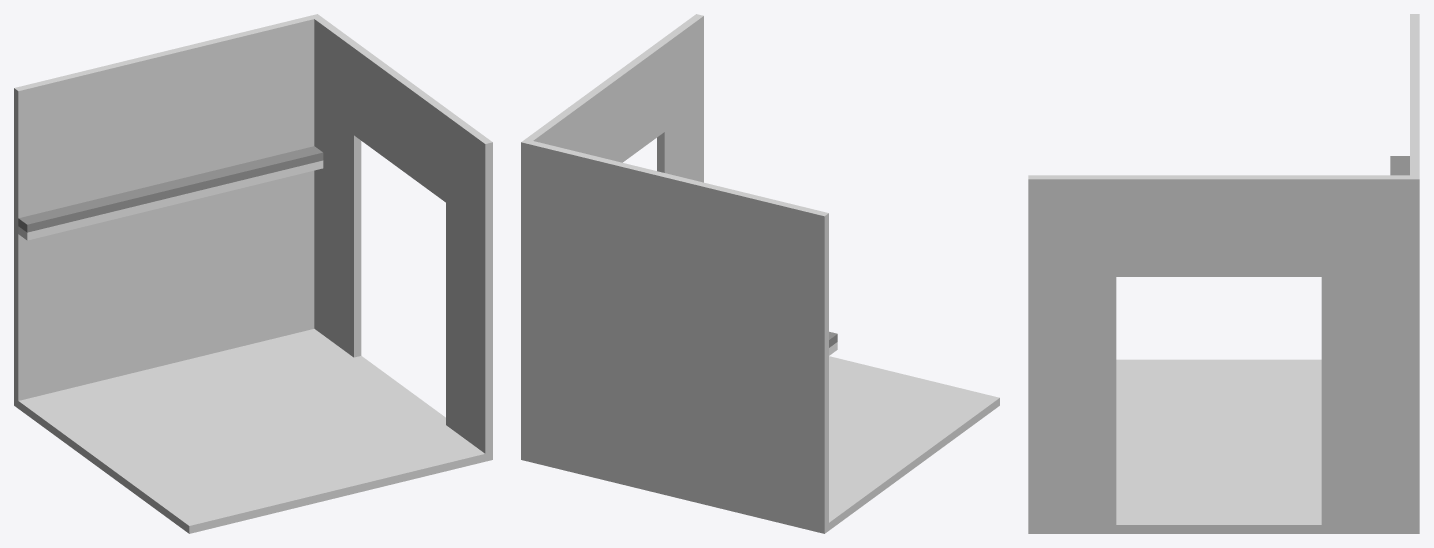
Rendered from Wall_for_door_Ver1.obj.
3 views of the same model, side by side, from view 1: azimuth 30°, elevation 25°; view 2: azimuth 150°, elevation 25°; view 3: azimuth 270°, elevation 25° (orthographic). The views are drawn at different scales.
Size of the model in its own units: 4 by 4 by 4.
Materials: 1 (1 with a texture image).
